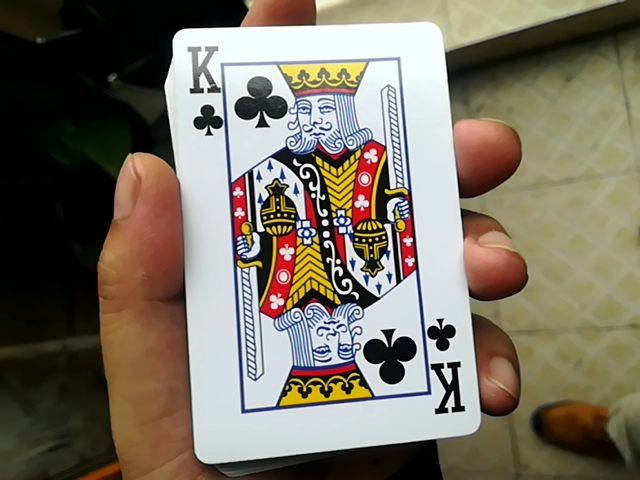mh k: (145, 22, 476, 456)
